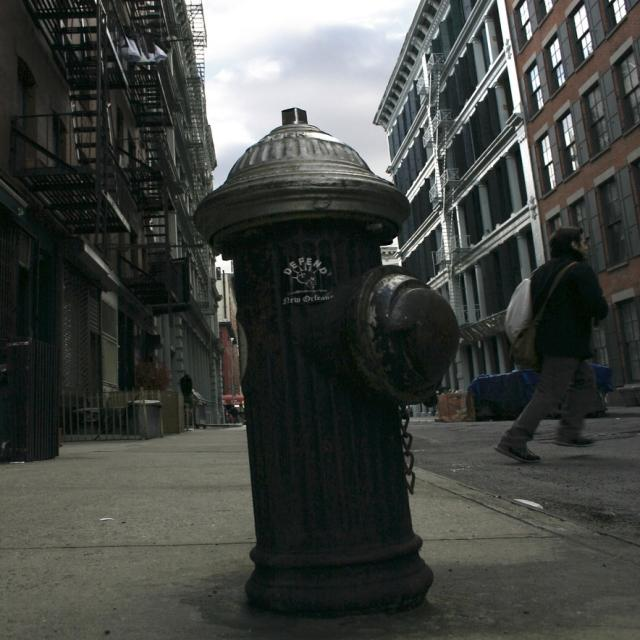fire_hydrant: (140, 105, 462, 609)
